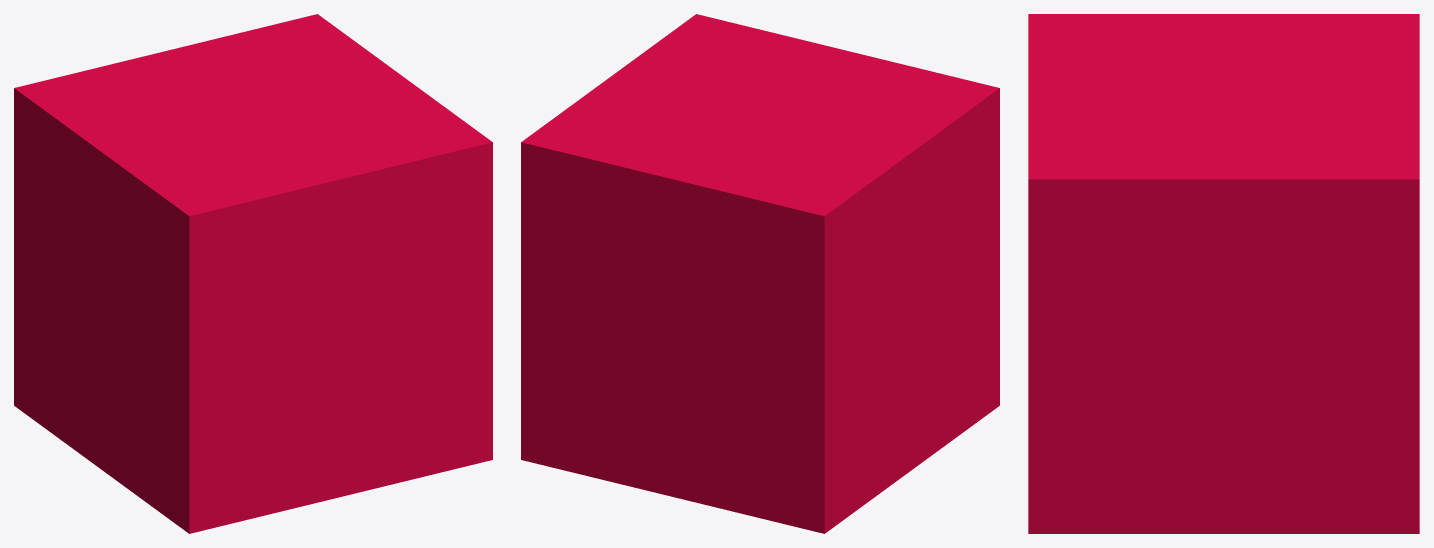
The model's file is morph.gltf.
3 views of the same model, side by side, from view 1: azimuth 30°, elevation 25°; view 2: azimuth 150°, elevation 25°; view 3: azimuth 270°, elevation 25° (orthographic). The views are drawn at different scales.
Visible parts, largest first — view 1: Cube; view 2: Cube; view 3: Cube.
Boxes of the visible parts, <box> form: Cube: <box>14,14,492,533</box>; Cube: <box>521,14,999,533</box>; Cube: <box>1028,14,1419,533</box>.
Bounding box in the file's own units: 1 × 1 × 1.
